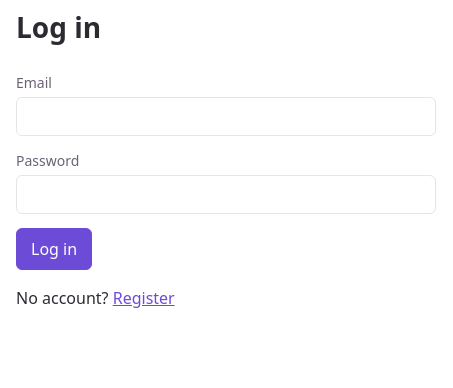
Scenario: LoginPage › shows an error message when login fails
The width and height of the screenshot is (453, 388).
Type "user@example.com" into the field labelled "Email" at (226, 116), box x1=16 y1=97 x2=436 y2=136
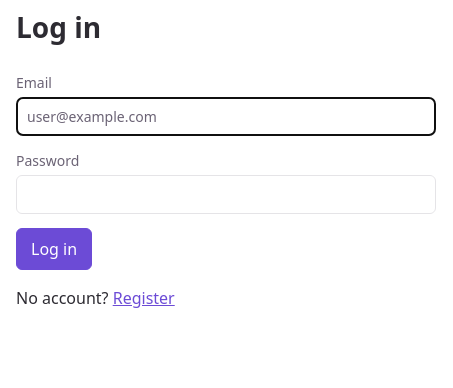
Type "wrong-password" into the password field labelled "Password" at (226, 194), box x1=16 y1=175 x2=436 y2=214
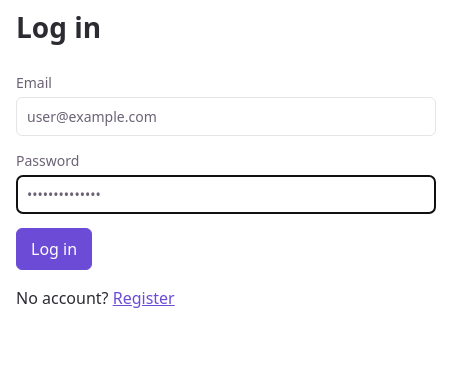
Click the button "Log in" at (54, 249), box x1=16 y1=228 x2=92 y2=270
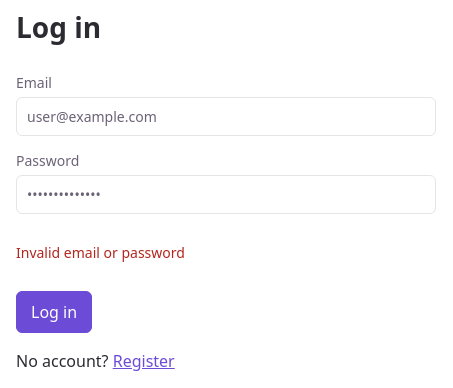
Now the message reads "Invalid email or password", box x1=16 y1=243 x2=185 y2=262
